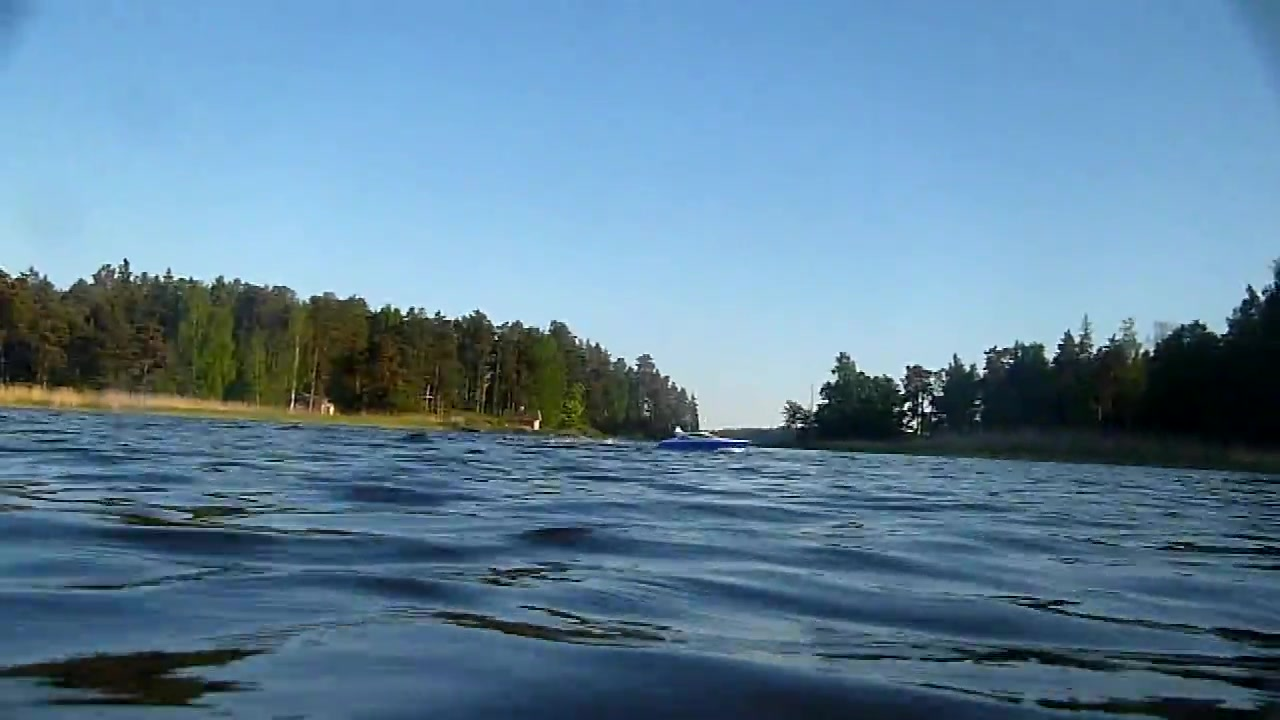boat: (658, 426, 757, 457)
